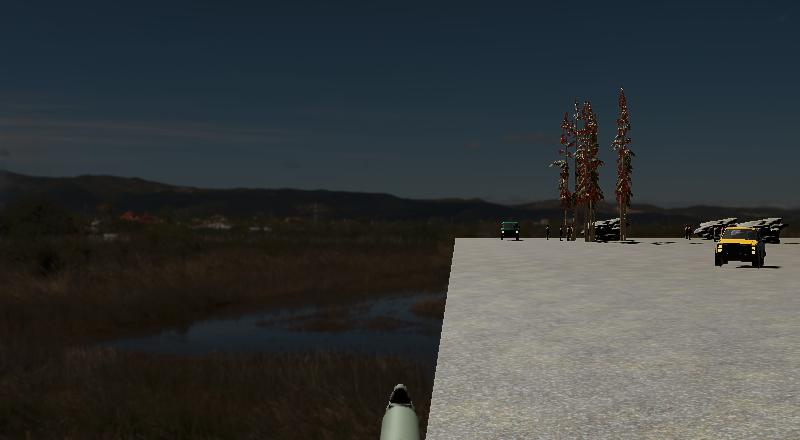car: (714, 224, 768, 269)
